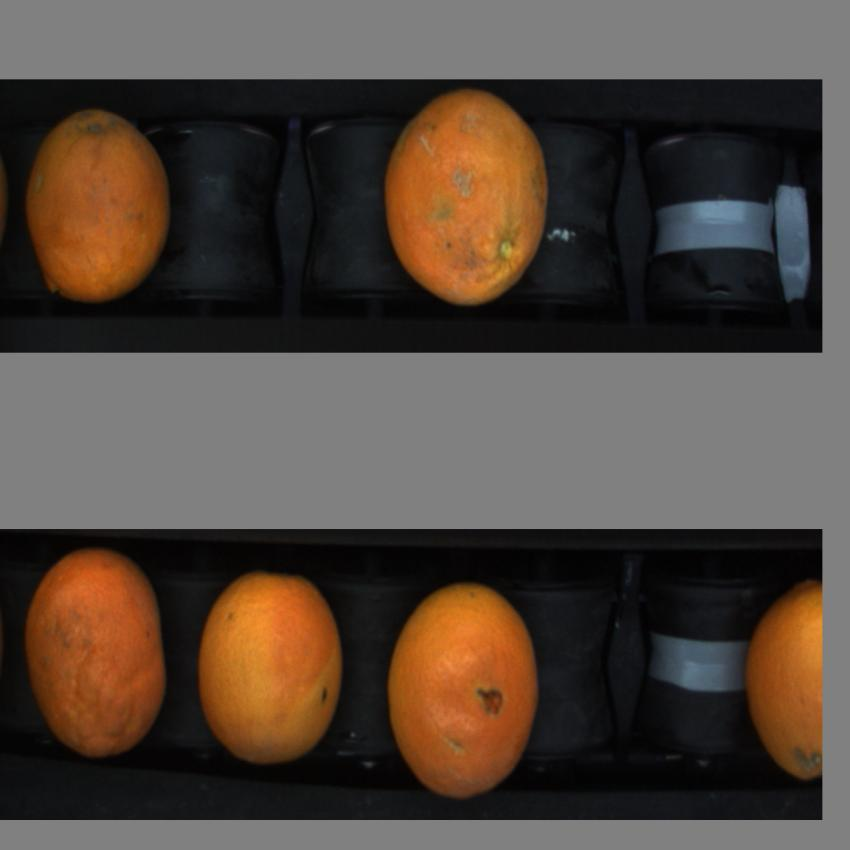Buen estado: (386, 566, 545, 808), (188, 568, 358, 771), (739, 569, 822, 791)
Mal estado: (382, 91, 552, 312), (18, 90, 176, 322), (21, 544, 171, 764)
